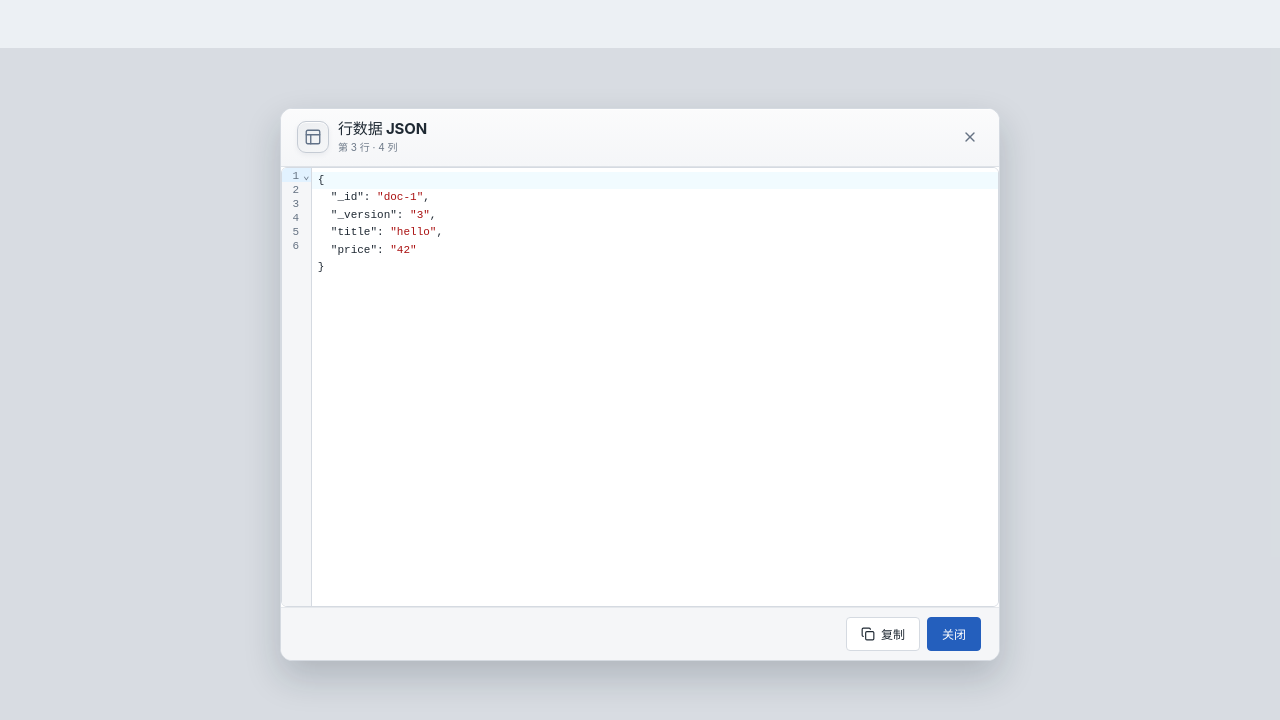
Test: RowJsonViewer › copies the editor text to the clipboard
Step 1. Click the button "复制" → (883, 634), box [846,616,920,650]
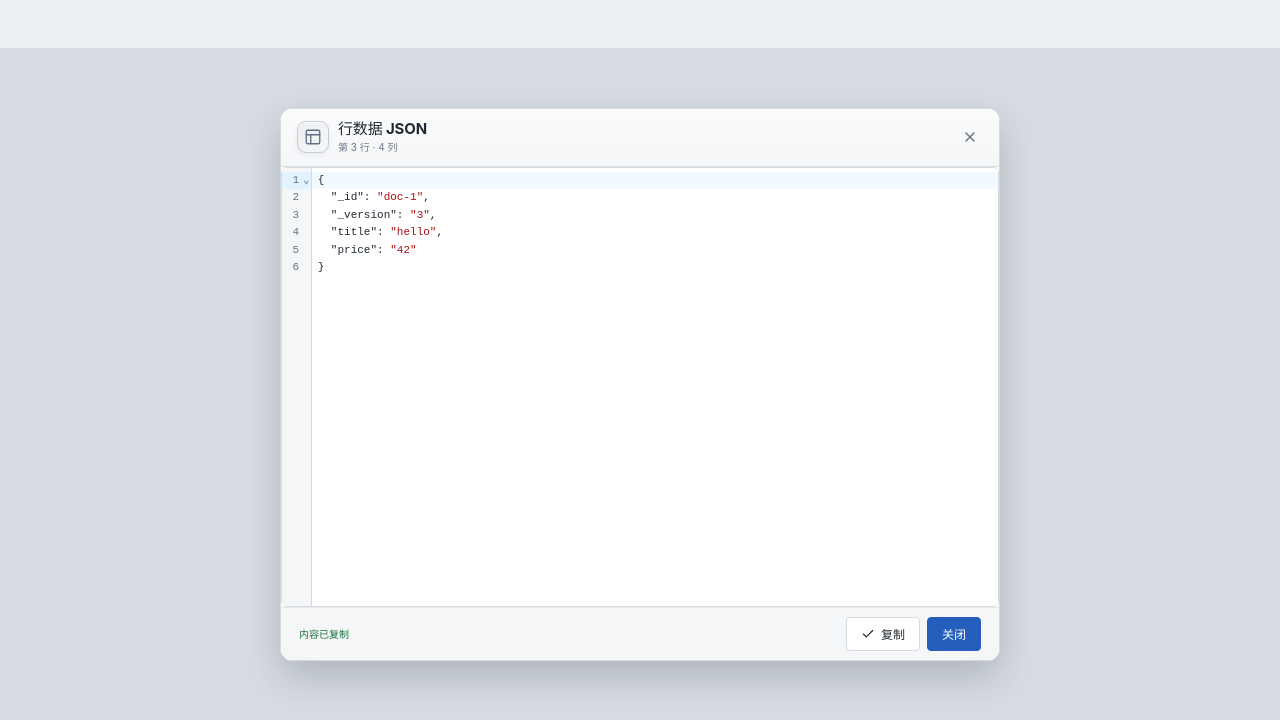
Check: the text "内容已复制" is shown, box [299,626,349,641]
